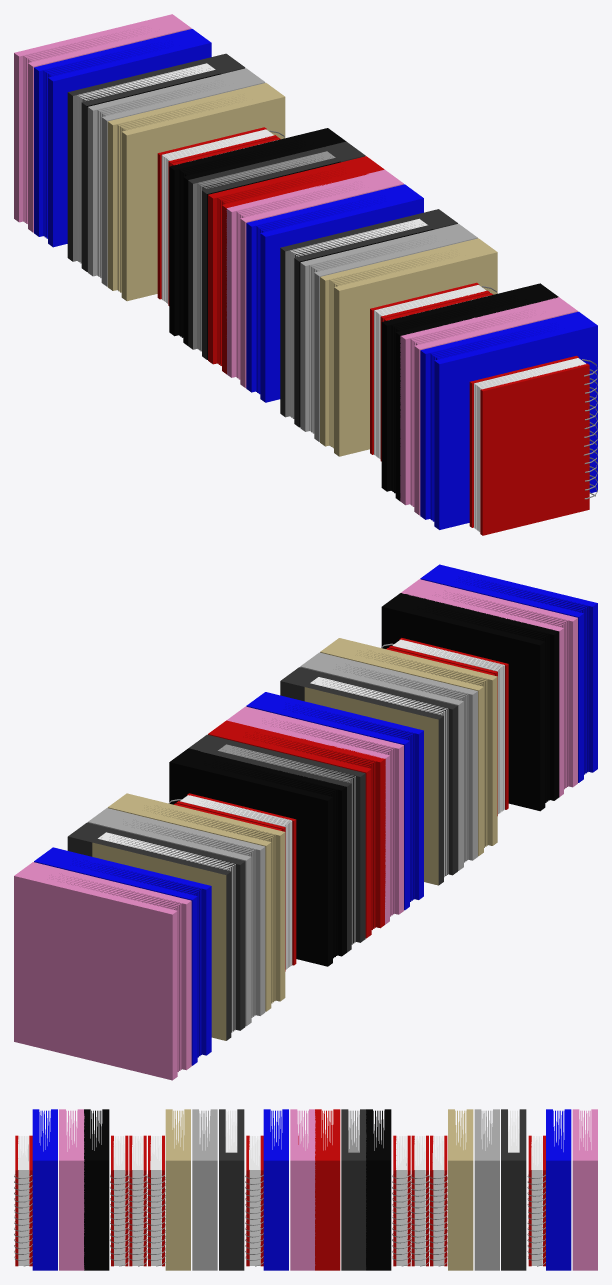
Rendered from rowOfBooks.fbx.
The picture shows the model from 3 angles, top to bottom: view 1: azimuth 30°, elevation 25°; view 2: azimuth 150°, elevation 25°; view 3: azimuth 270°, elevation 25°; orthographic projection. The views are drawn at different scales.
Visible parts, largest first — view 1: rowOfBooks; view 2: rowOfBooks; view 3: rowOfBooks.
Part boxes in pixels (left/top/right/bottom): rowOfBooks: left=14, top=14, right=597, bottom=535; rowOfBooks: left=14, top=564, right=597, bottom=1080; rowOfBooks: left=14, top=1109, right=597, bottom=1270.
Bounding box in the file's own units: 1 × 1.02 × 4.8.
